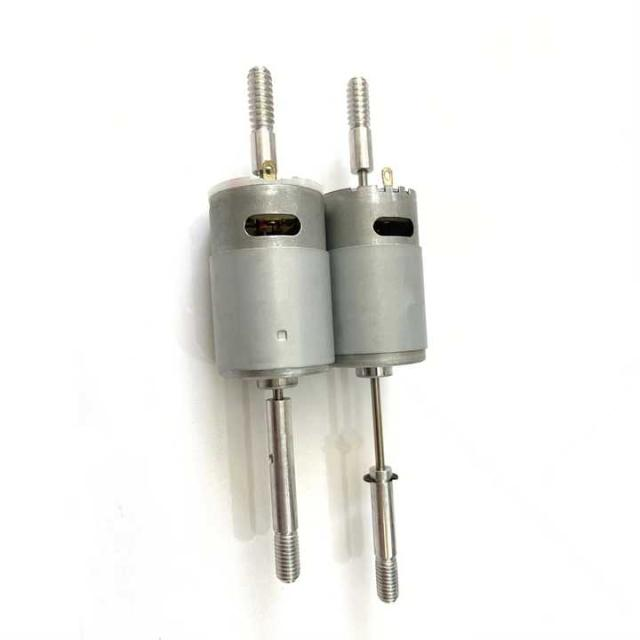motor: (210, 52, 334, 597), (328, 91, 426, 606)
